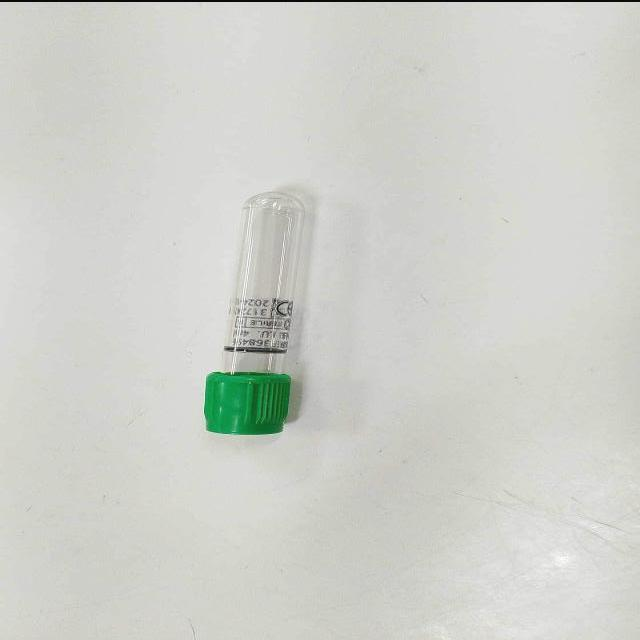Sharps: (201, 189, 307, 435)
